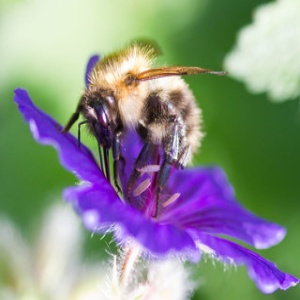bee: (69, 41, 226, 210)
